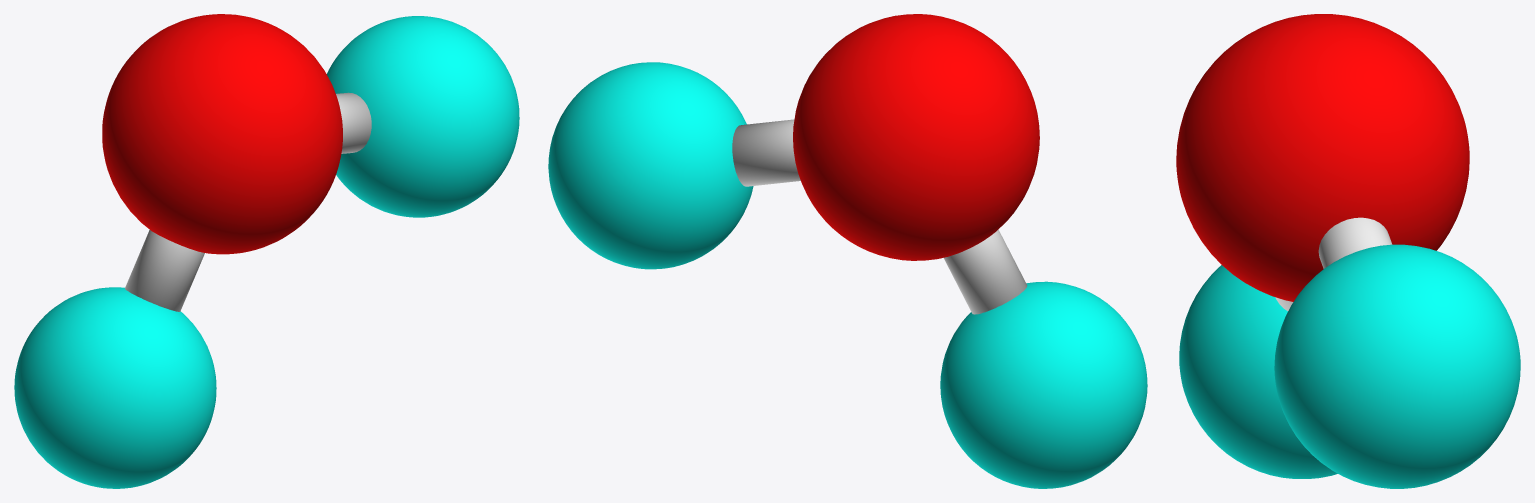
The picture shows the model from 3 angles, left to right: view 1: azimuth 30°, elevation 25°; view 2: azimuth 150°, elevation 25°; view 3: azimuth 270°, elevation 25°; orthographic projection. The views are drawn at different scales.
Visible parts, largest first — view 1: Oxygen_4, Hydrogen.001_3, Hydrogen.000_1, connection.001_2, connection.000_0; view 2: Oxygen_4, Hydrogen.001_3, Hydrogen.000_1, connection.001_2, connection.000_0; view 3: Oxygen_4, Hydrogen.000_1, Hydrogen.001_3, connection.000_0.
Boxes of the visible parts, x1=… form: Oxygen_4: x1=102, y1=14, x2=342, y2=254; Hydrogen.001_3: x1=14, y1=287, x2=216, y2=488; Hydrogen.000_1: x1=326, y1=16, x2=519, y2=217; connection.001_2: x1=125, y1=230, x2=204, y2=311; connection.000_0: x1=336, y1=92, x2=371, y2=153; Oxygen_4: x1=793, y1=14, x2=1039, y2=260; Hydrogen.001_3: x1=940, y1=281, x2=1147, y2=488; Hydrogen.000_1: x1=548, y1=62, x2=753, y2=269; connection.001_2: x1=944, y1=229, x2=1027, y2=314; connection.000_0: x1=732, y1=119, x2=800, y2=186; Oxygen_4: x1=1176, y1=14, x2=1469, y2=301; Hydrogen.000_1: x1=1274, y1=244, x2=1520, y2=488; Hydrogen.001_3: x1=1179, y1=265, x2=1337, y2=478; connection.000_0: x1=1318, y1=217, x2=1392, y2=268.
Size of the model in its own units: 2.04 by 1.58 by 0.9716.
